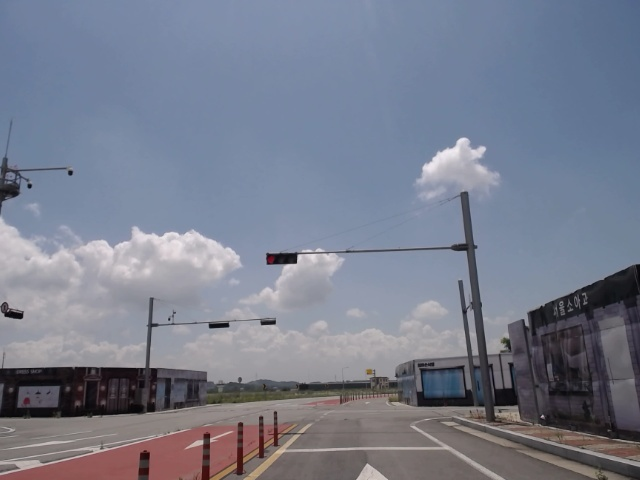red_3: (265, 252, 299, 265)
